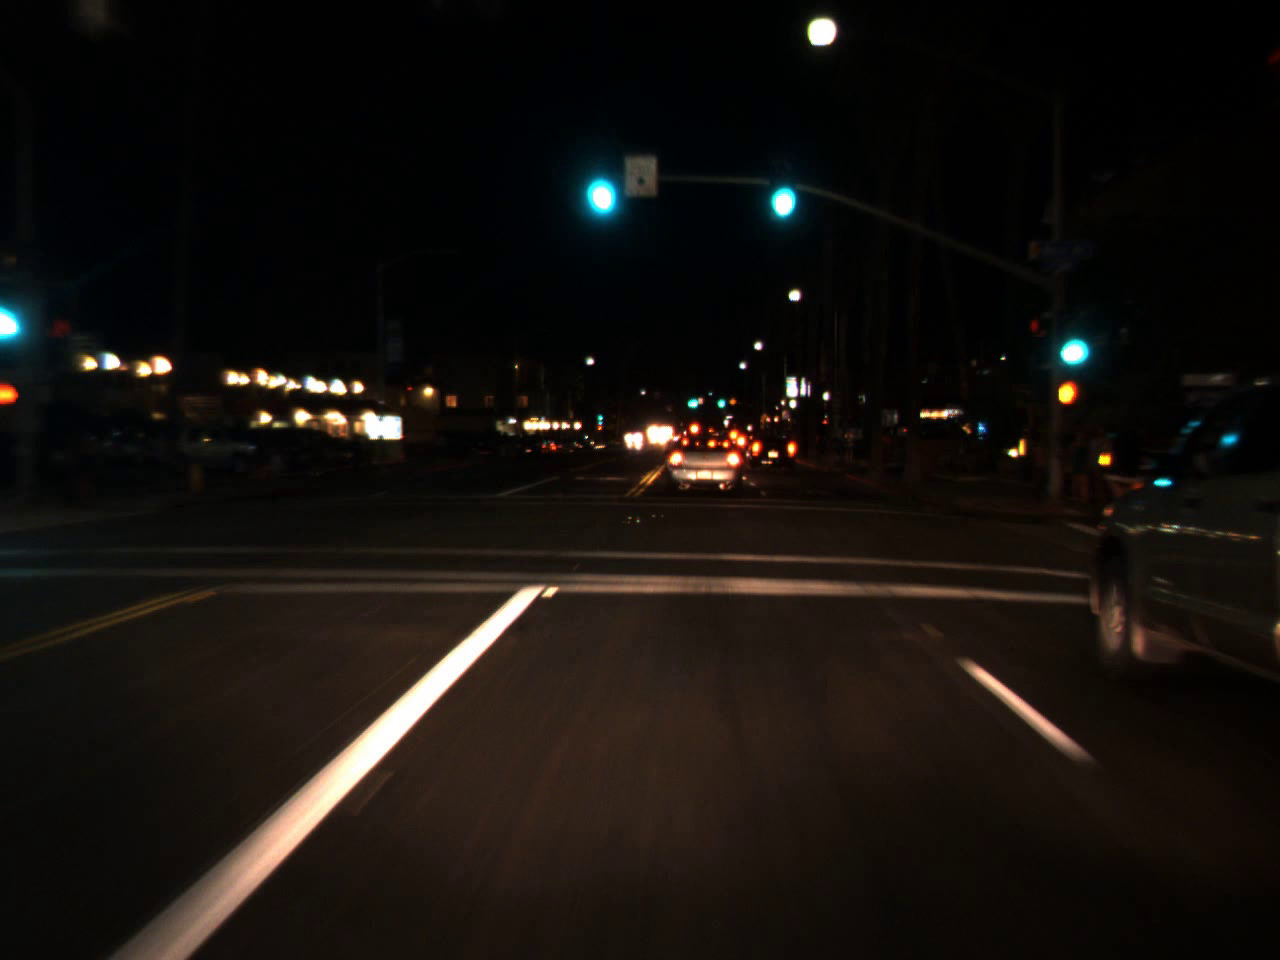go: (577, 137, 620, 224), (760, 144, 801, 231), (1047, 304, 1095, 376), (0, 272, 31, 350), (683, 388, 701, 412), (715, 389, 725, 410), (596, 410, 603, 422)
